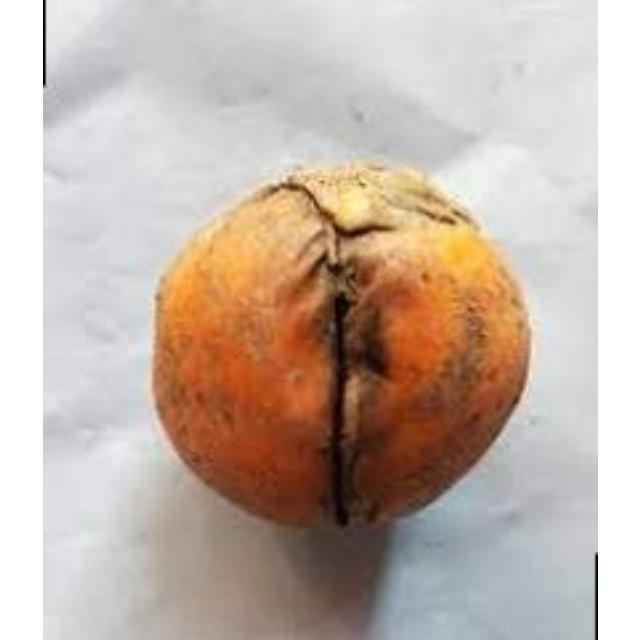damaged: (151, 167, 528, 523)
